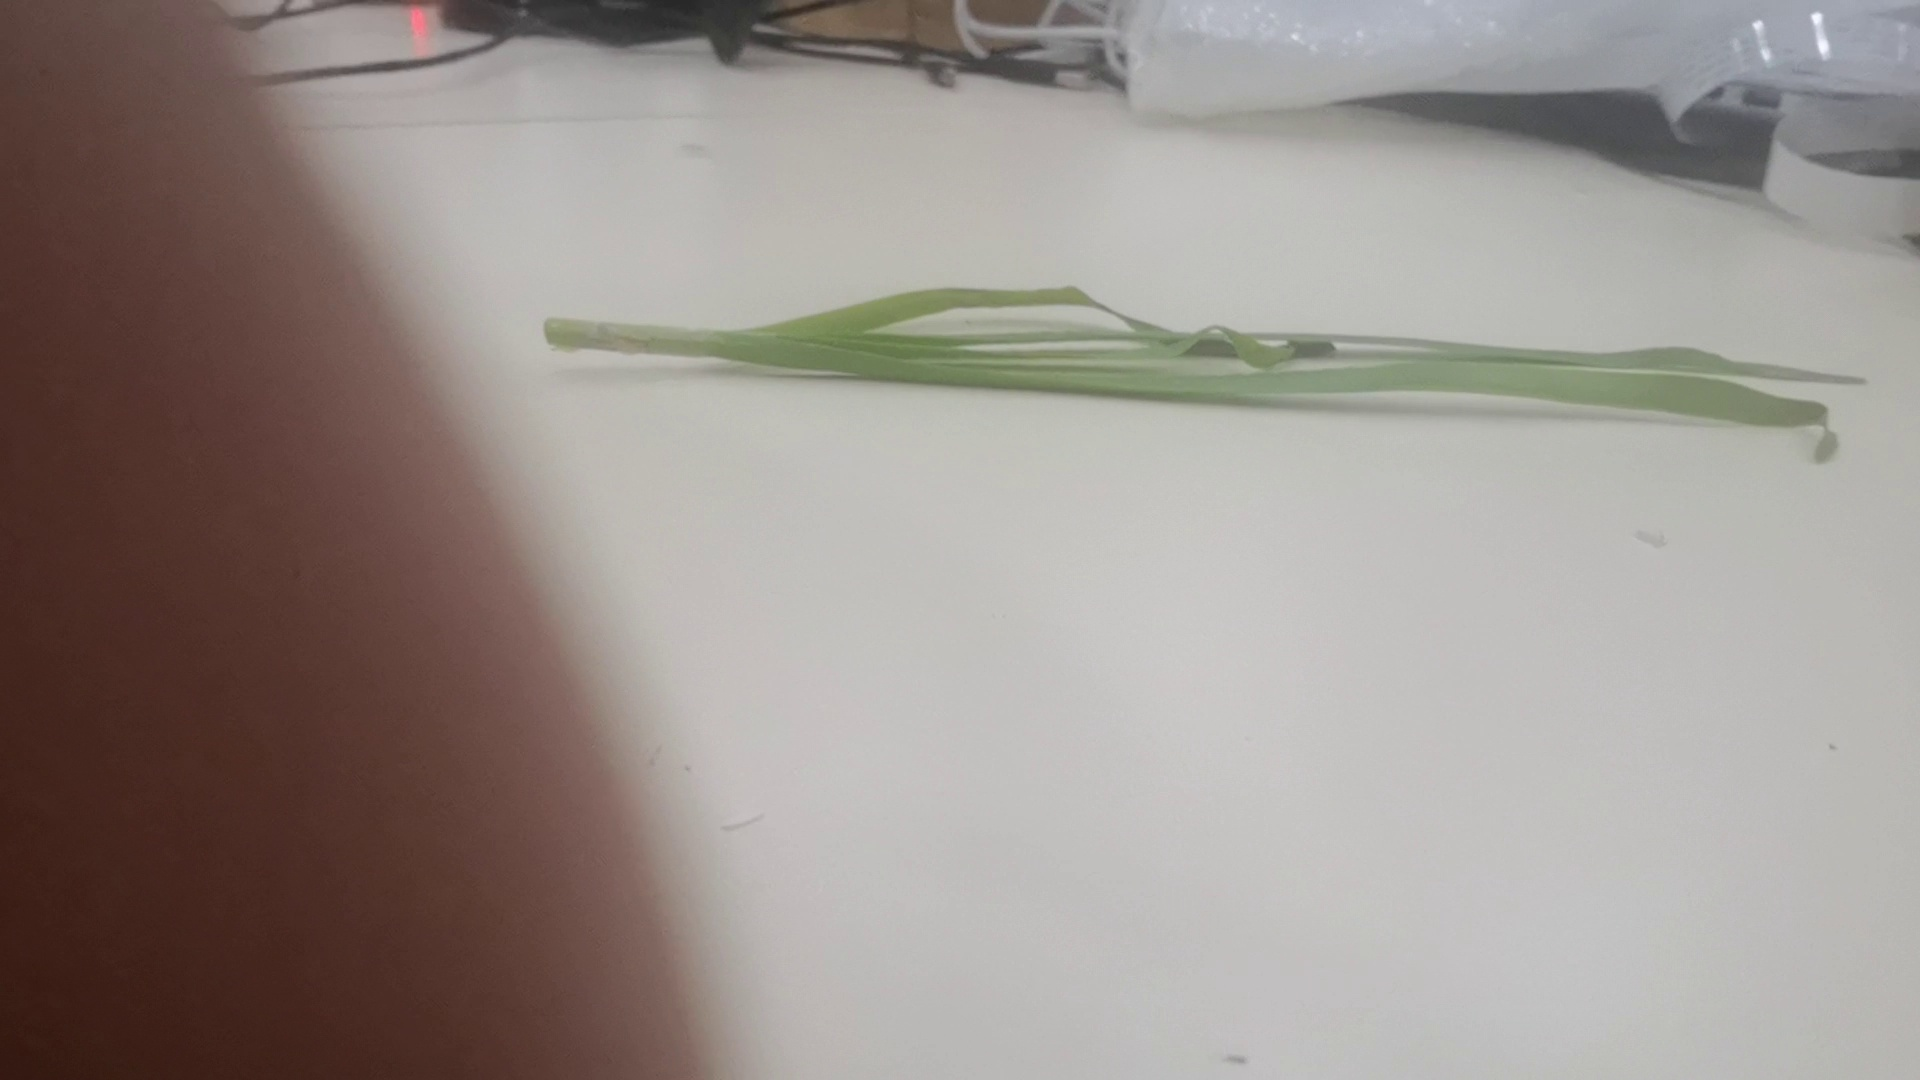chives: (541, 274, 1884, 465)
